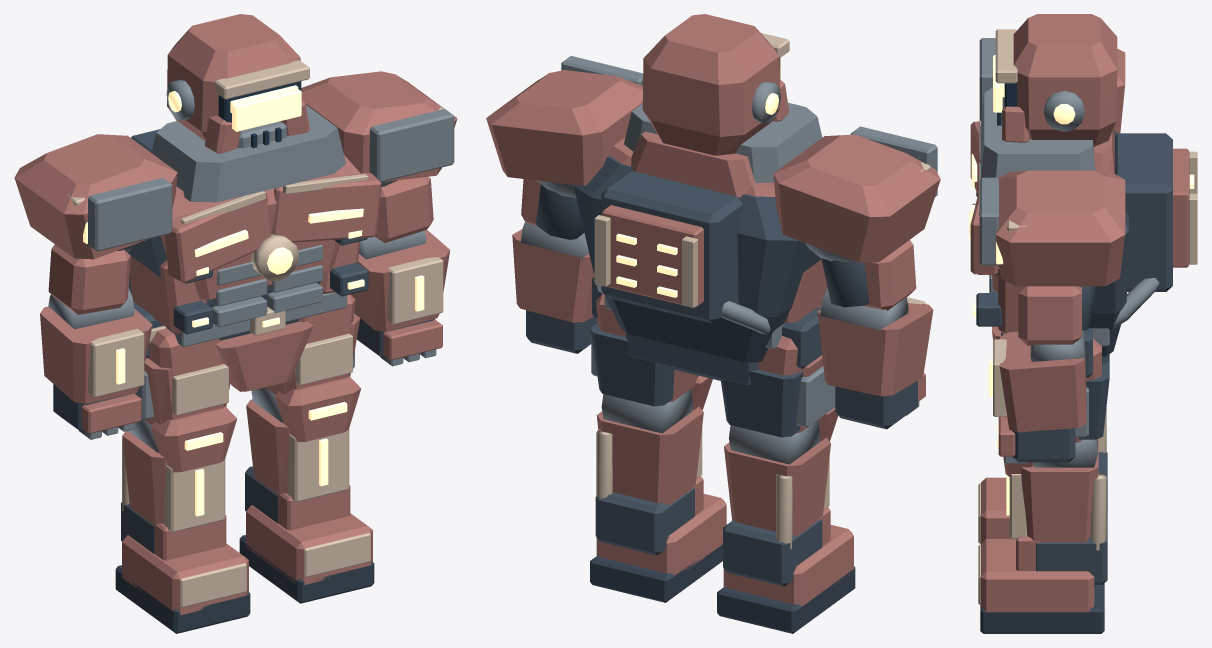
The model's file is bot_breacher.glb.
3 views of the same model, side by side, from view 1: azimuth 30°, elevation 25°; view 2: azimuth 150°, elevation 25°; view 3: azimuth 270°, elevation 25° (orthographic). The views are drawn at different scales.
Visible parts, largest first — view 1: shoulder_pauldron_63, blast_collar_120, helmet_94, shoulder_pauldron_78, pectoral_plate_13, pectoral_plate_3, forearm_bracer_69, shoulder_blast_plate_126, shoulder_blast_plate_131, boot_toe_47, boot_toe_31, upper_arm_plate_67 (+51 smaller); view 2: shoulder_pauldron_63, helmet_94, torso_1, shoulder_pauldron_78, reactor_pack_108, forearm_bracer_69, shin_armor_51, shin_armor_35, reactor_armored_cover_109, forearm_bracer_84, neck_guard_collar_93, boot_ankle_49 (+33 smaller); view 3: shoulder_pauldron_78, helmet_94, reactor_pack_108, forearm_bracer_84, boot_toe_47, shin_armor_51, blast_collar_120, upper_arm_plate_82, boot_sole_46, boot_ankle_49, torso_1, glove_87 (+29 smaller).
Part boxes in pixels (box(x1,y1,x2,y2)): shoulder_pauldron_63: box(14, 134, 177, 259); blast_collar_120: box(151, 105, 345, 202); helmet_94: box(167, 14, 300, 140); shoulder_pauldron_78: box(301, 71, 457, 181); pectoral_plate_13: box(271, 173, 381, 242); pectoral_plate_3: box(164, 191, 271, 283); forearm_bracer_69: box(40, 306, 152, 403); shoulder_blast_plate_126: box(88, 177, 172, 251); shoulder_blast_plate_131: box(369, 109, 454, 182); boot_toe_47: box(246, 505, 372, 584); boot_toe_31: box(122, 535, 248, 615); upper_arm_plate_67: box(48, 244, 130, 314); shoulder_pauldron_63: box(773, 134, 940, 262); helmet_94: box(642, 14, 780, 155); torso_1: box(574, 156, 821, 362); shoulder_pauldron_78: box(486, 70, 642, 185); reactor_pack_108: box(601, 171, 742, 323); forearm_bracer_69: box(817, 303, 933, 396); shin_armor_51: box(596, 406, 703, 505); shin_armor_35: box(724, 437, 830, 536); reactor_armored_cover_109: box(602, 205, 703, 308); forearm_bracer_84: box(512, 229, 594, 322); neck_guard_collar_93: box(631, 131, 755, 197); boot_ankle_49: box(595, 488, 694, 555); shoulder_pauldron_78: box(996, 170, 1125, 286); helmet_94: box(1013, 14, 1117, 146); reactor_pack_108: box(1115, 133, 1172, 291); forearm_bracer_84: box(999, 331, 1086, 432); boot_toe_47: box(980, 539, 1094, 612); shin_armor_51: box(1021, 439, 1098, 542); blast_collar_120: box(980, 87, 1095, 178); upper_arm_plate_82: box(1018, 286, 1081, 345); boot_sole_46: box(980, 583, 1104, 633); boot_ankle_49: box(1036, 513, 1107, 584); torso_1: box(1090, 130, 1128, 356); glove_87: box(1012, 428, 1075, 462).
Size of the model in its own units: 1.78 by 2.37 by 0.8835.
